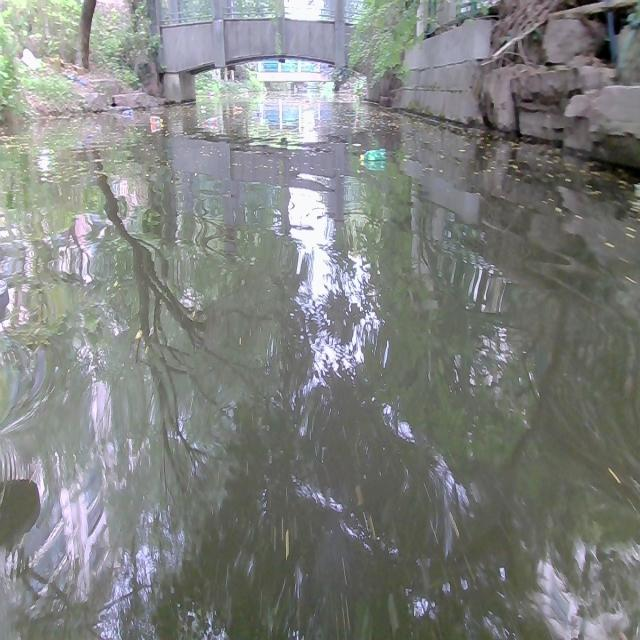bottle: (358, 145, 385, 163), (149, 116, 165, 126), (203, 114, 217, 122), (119, 108, 133, 115), (251, 110, 263, 116), (199, 103, 208, 111), (233, 103, 242, 110)
